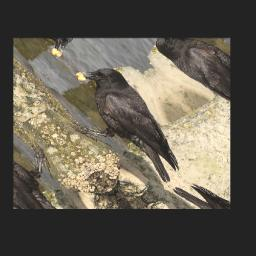Crow: (39, 57, 209, 197)
